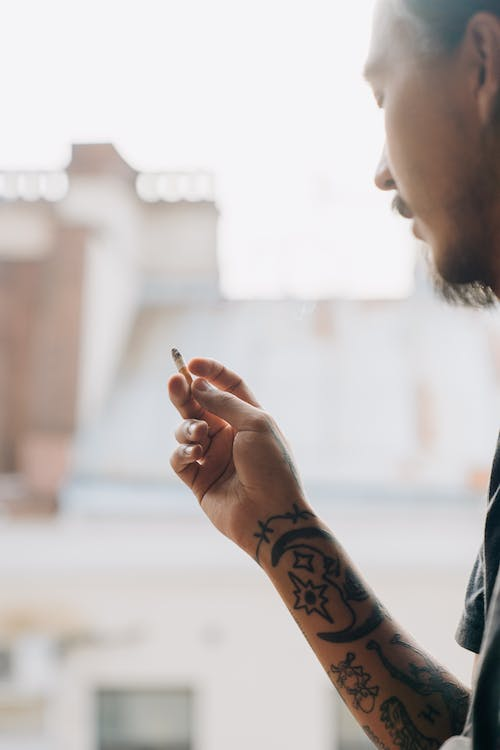cigarette: (170, 338, 194, 397)
